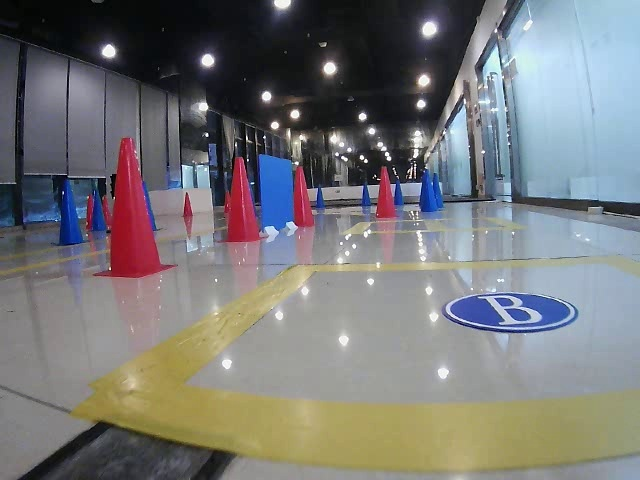B: (447, 288, 575, 331)
